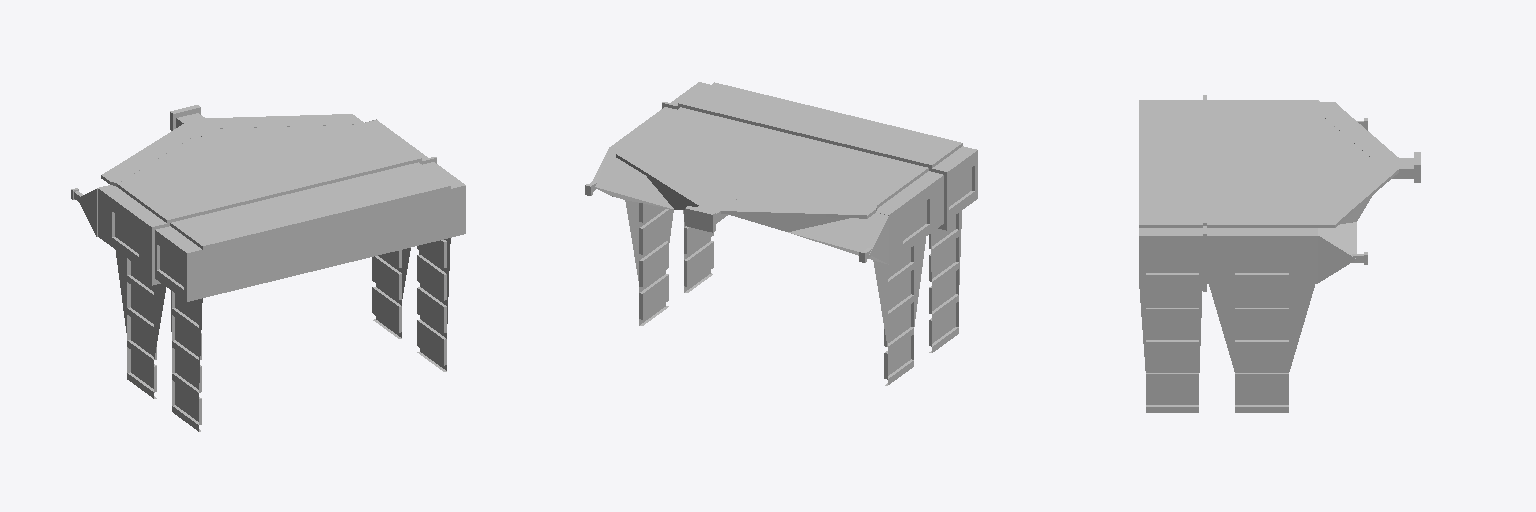
3 renders of one model, left to right at view 1: azimuth 30°, elevation 25°; view 2: azimuth 150°, elevation 25°; view 3: azimuth 270°, elevation 25°, orthographic.
Parts seen in each view (by area): view 1: samochodowka_cz2; view 2: samochodowka_cz2; view 3: samochodowka_cz2.
Part boxes in pixels (bbox=[...]): samochodowka_cz2: bbox=[71, 105, 465, 431]; samochodowka_cz2: bbox=[585, 82, 977, 385]; samochodowka_cz2: bbox=[1139, 95, 1420, 412].
Size of the model in its own units: 0.0165 by 0.0107 by 0.0142.